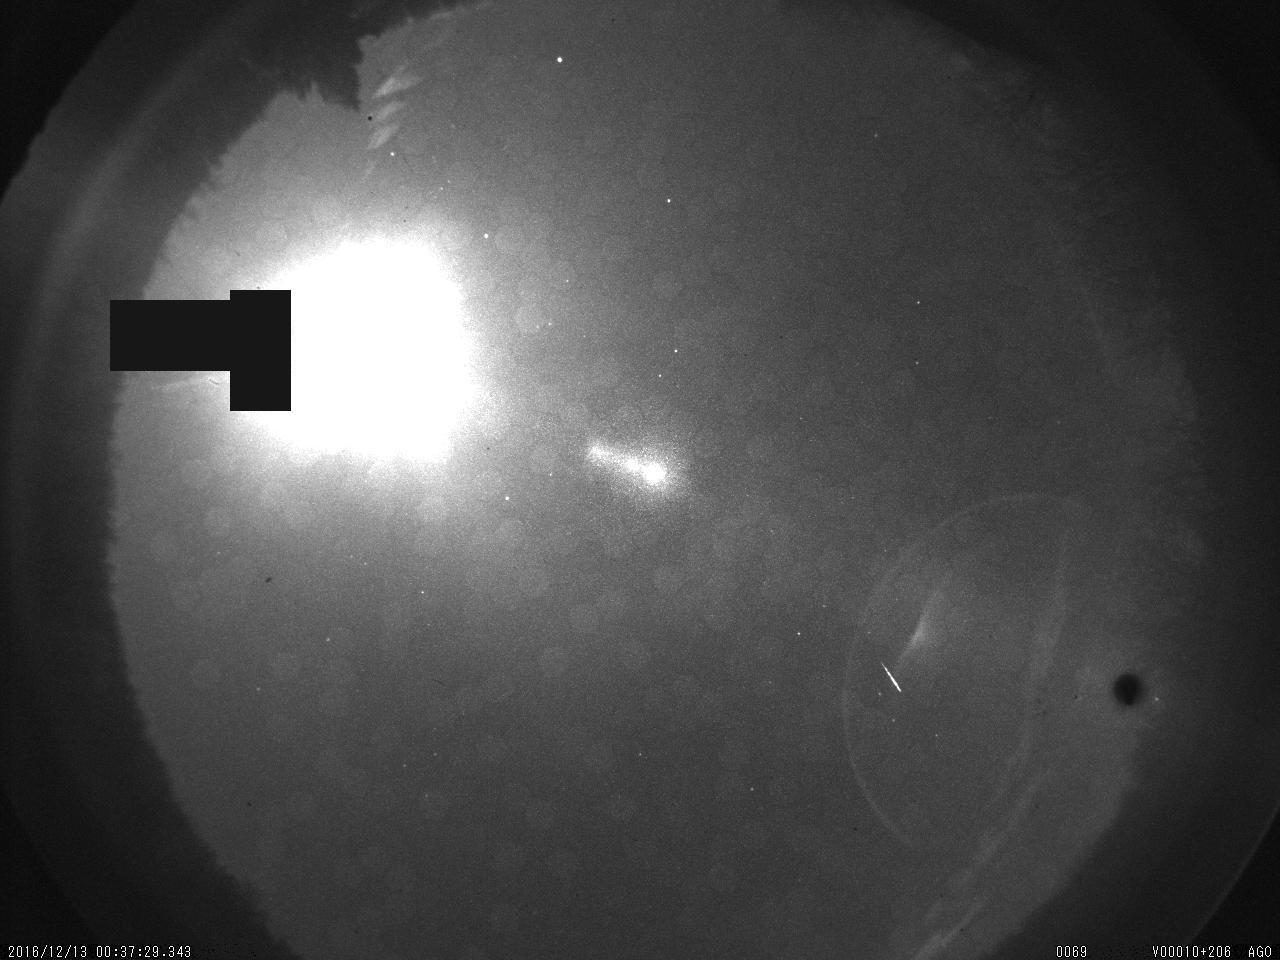meteor: (872, 654, 913, 694)
